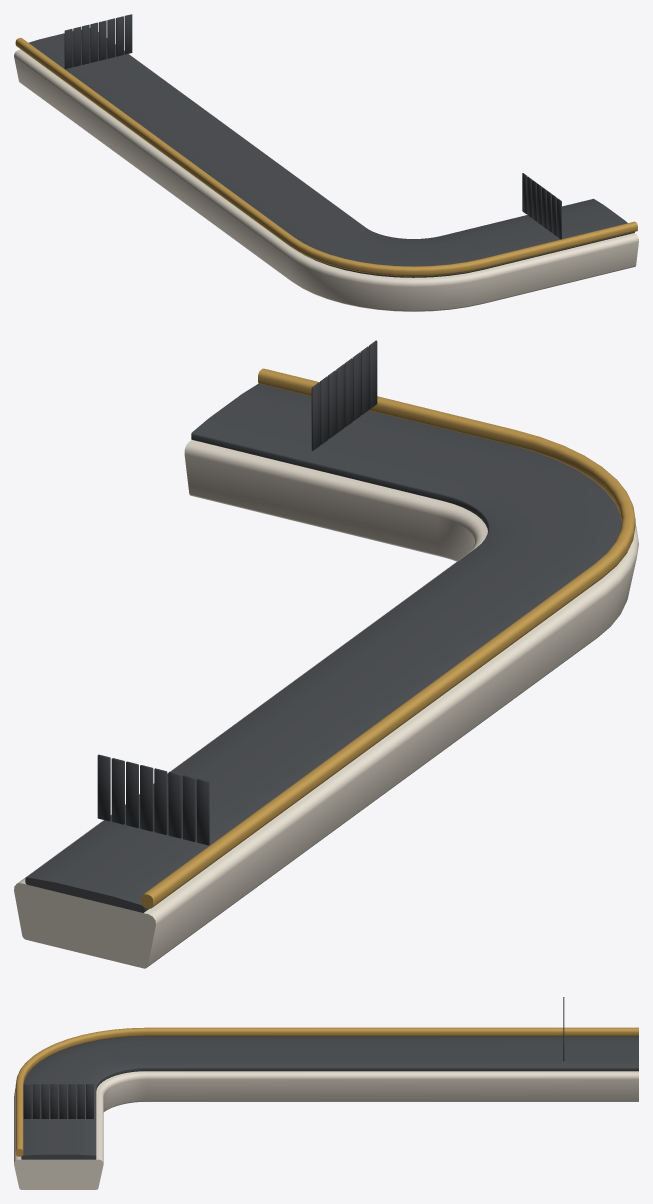
The model's file is carrousel.glb.
3 renders of one model, top to bottom at view 1: azimuth 30°, elevation 25°; view 2: azimuth 150°, elevation 25°; view 3: azimuth 270°, elevation 25°, orthographic. The views are drawn at different scales.
Parts seen in each view (by area): view 1: CAR_Tapis.001, CAR_Struct, CAR_Ocre_Base; view 2: CAR_Tapis.001, CAR_Struct, CAR_Ocre_Base, CAR_Laniere_E_03.001, CAR_Laniere_E_05.001, CAR_Laniere_E_08.001, CAR_Laniere_E_02.001, CAR_Laniere_E_01.001, CAR_Laniere_E_07.001, CAR_Laniere_E_04.001; view 3: CAR_Tapis.001, CAR_Struct, CAR_Ocre_Base, CAR_Laniere_S_01.001, CAR_Laniere_S_02.001, CAR_Laniere_S_03.001, CAR_Laniere_S_04.001, CAR_Laniere_S_05.001, CAR_Laniere_S_06.001.
Boxes of the visible parts, box(x1,y1,x2,y2) form: CAR_Tapis.001: box(28, 28, 634, 277); CAR_Struct: box(14, 44, 638, 311); CAR_Ocre_Base: box(15, 37, 637, 276); CAR_Tapis.001: box(25, 383, 621, 912); CAR_Struct: box(14, 440, 638, 968); CAR_Ocre_Base: box(141, 368, 635, 908); CAR_Laniere_E_03.001: box(168, 772, 181, 838); CAR_Laniere_E_05.001: box(140, 765, 153, 831); CAR_Laniere_E_08.001: box(97, 754, 110, 821); CAR_Laniere_E_02.001: box(182, 775, 195, 841); CAR_Laniere_E_01.001: box(196, 779, 209, 845); CAR_Laniere_E_07.001: box(111, 758, 124, 824); CAR_Laniere_E_04.001: box(154, 768, 167, 834); CAR_Tapis.001: box(21, 1036, 638, 1159); CAR_Struct: box(14, 1071, 638, 1189); CAR_Ocre_Base: box(15, 1027, 638, 1156); CAR_Laniere_S_01.001: box(23, 1084, 31, 1118); CAR_Laniere_S_02.001: box(32, 1084, 40, 1118); CAR_Laniere_S_03.001: box(41, 1084, 49, 1118); CAR_Laniere_S_04.001: box(50, 1084, 58, 1118); CAR_Laniere_S_05.001: box(59, 1084, 67, 1118); CAR_Laniere_S_06.001: box(68, 1084, 76, 1118).
Bounding box in the file's own units: 3.49 × 0.98 × 7.49.
